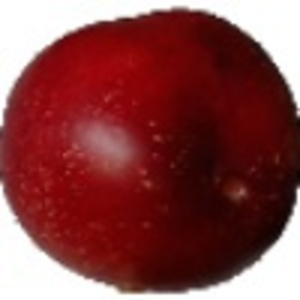nectarina: (1, 3, 300, 300)
